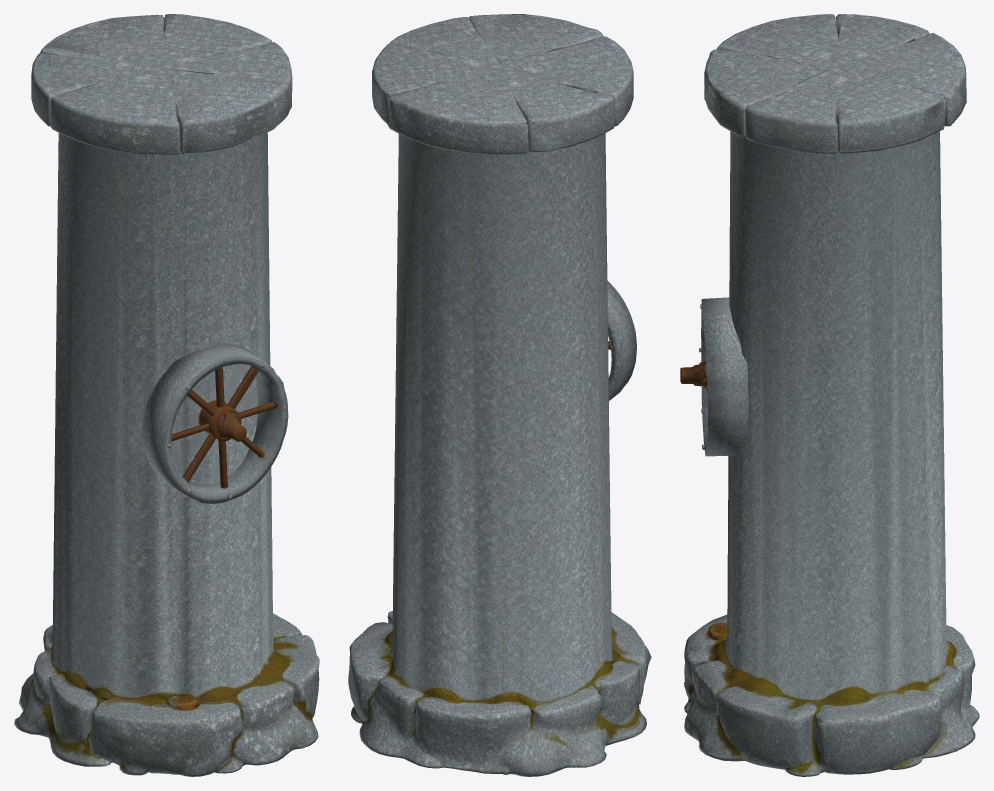
The model's file is pillar.glb.
3 views of the same model, side by side, from view 1: azimuth 30°, elevation 25°; view 2: azimuth 150°, elevation 25°; view 3: azimuth 270°, elevation 25° (orthographic).
Bounding box in the file's own units: 0.396 × 0.9512 × 0.3995.
Materials: 1 (1 with a texture image).
